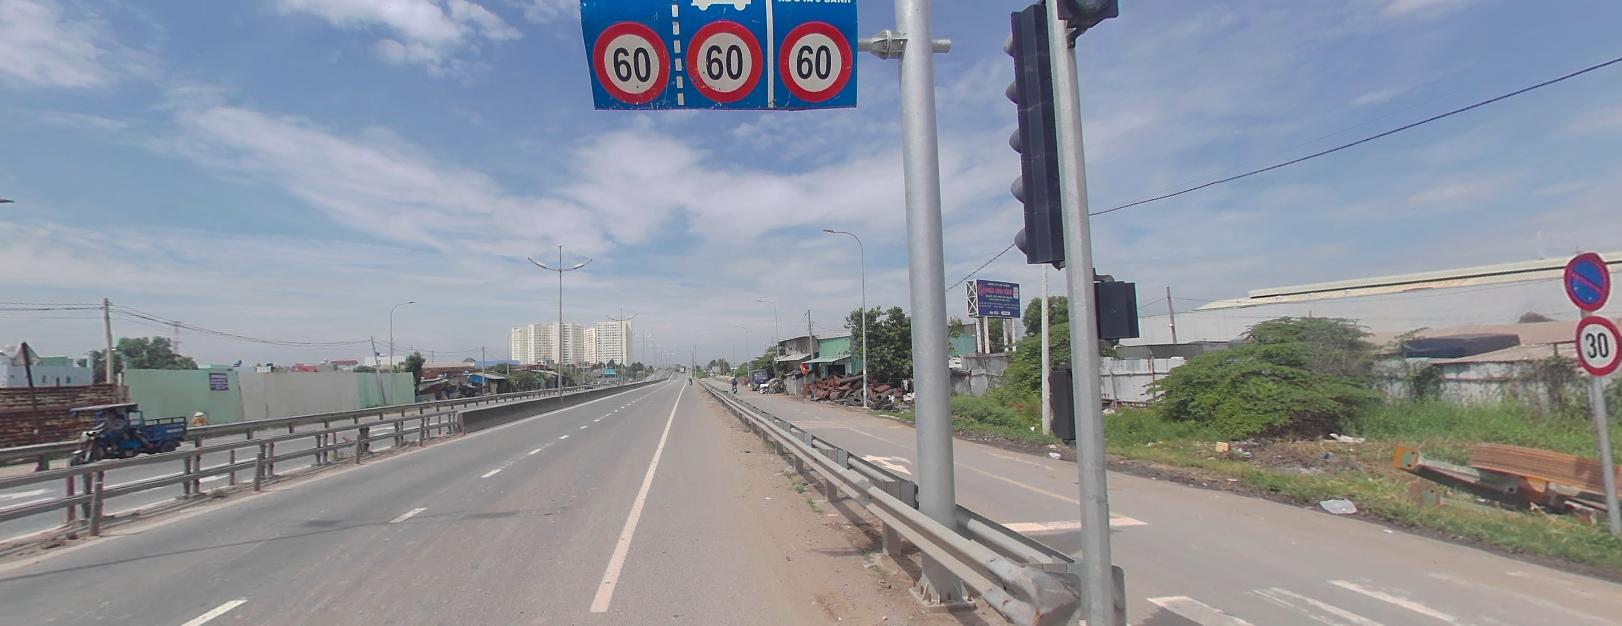Cam dung va do: (1563, 250, 1611, 308)
Gioi han toc do: (585, 17, 670, 105), (681, 18, 764, 105), (776, 14, 851, 108), (1571, 310, 1620, 372)
